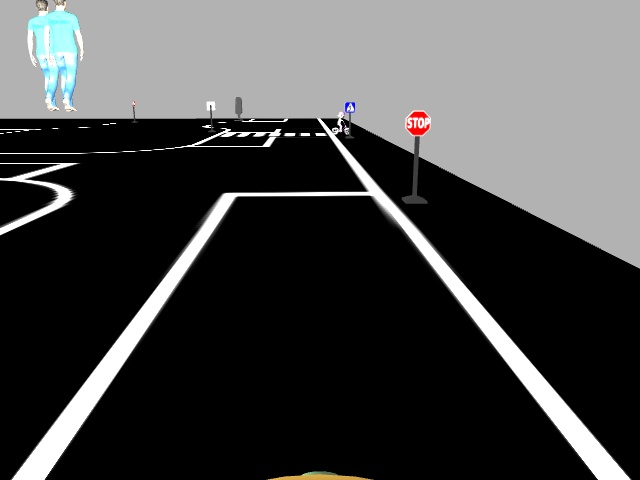Stop: (404, 109, 432, 136)
